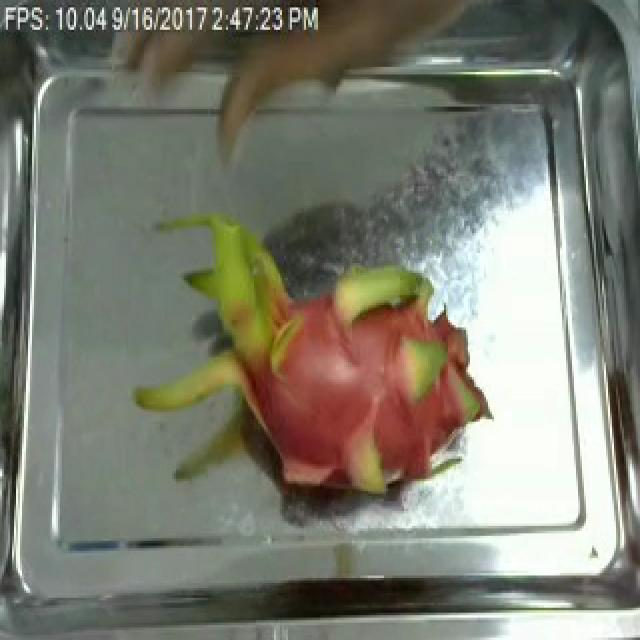fruit: (130, 184, 512, 534)
